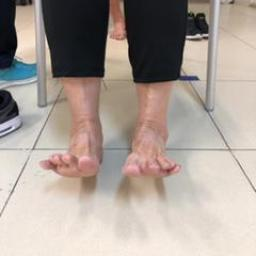Front View -Both Feet-: (29, 90, 191, 200)
